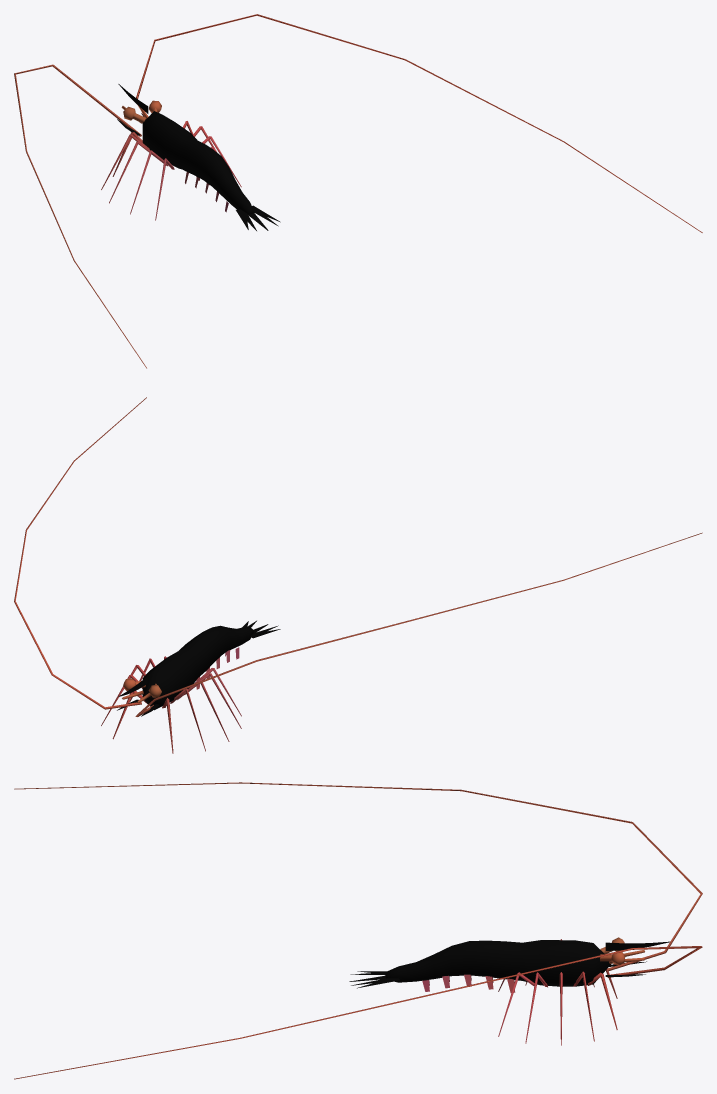
Rendered from shrimp_cleaner_lo.glb.
The picture shows the model from 3 angles, top to bottom: view 1: azimuth 30°, elevation 25°; view 2: azimuth 150°, elevation 25°; view 3: azimuth 270°, elevation 25°; orthographic projection. The views are drawn at different scales.
Parts seen in each view (by area): view 1: shrimp_cleaner_lo; view 2: shrimp_cleaner_lo; view 3: shrimp_cleaner_lo.
Boxes of the visible parts, left/top/right/bottom form: shrimp_cleaner_lo: left=14, top=14, right=702, bottom=368; shrimp_cleaner_lo: left=14, top=397, right=702, bottom=753; shrimp_cleaner_lo: left=14, top=782, right=702, bottom=1079.
Size of the model in its own units: 0.1242 by 0.0258 by 0.1244.
